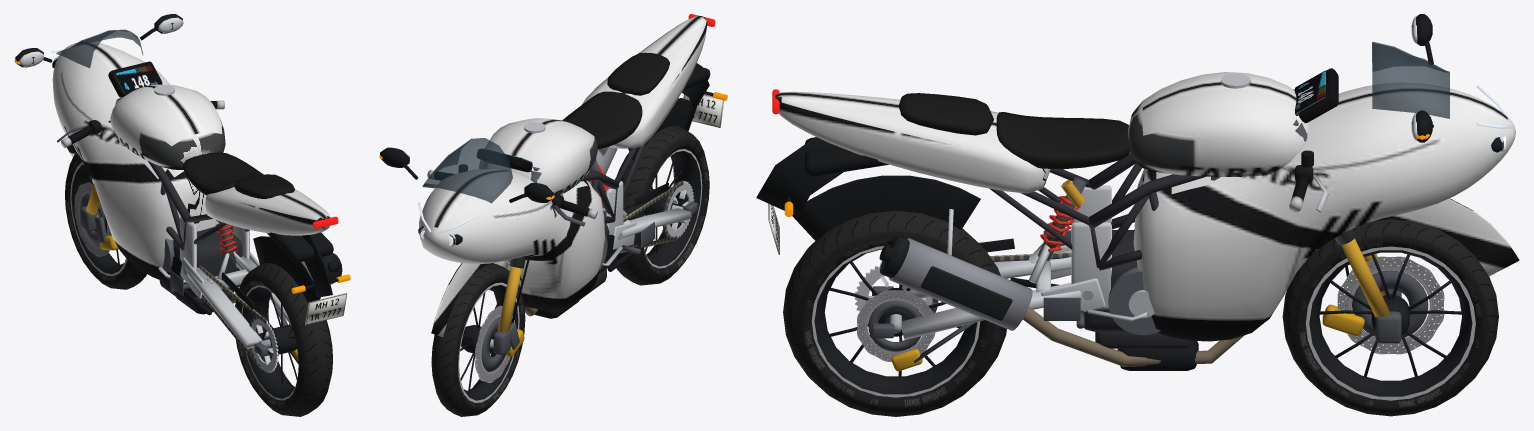
File: bike_lo.glb
3 views of the same model, side by side, from view 1: azimuth 30°, elevation 25°; view 2: azimuth 150°, elevation 25°; view 3: azimuth 270°, elevation 25° (orthographic). The views are drawn at different scales.
Parts seen in each view (by area): view 1: bike_BodyPaint, bike_Parts, WheelR, WheelF, bike_Glass, bike_Lamps; view 2: bike_BodyPaint, bike_Parts, WheelR, WheelF, bike_Glass, bike_Lamps; view 3: bike_BodyPaint, bike_Parts, WheelF, WheelR, bike_Glass.
Boxes of the visible parts, x1,y1,x2,y2 form: bike_BodyPaint: (52, 42, 330, 281); bike_Parts: (15, 14, 347, 368); WheelR: (235, 263, 332, 416); WheelF: (65, 152, 146, 289); bike_Glass: (56, 29, 143, 68); bike_Lamps: (14, 21, 350, 293); bike_BodyPaint: (419, 15, 706, 336); bike_Parts: (380, 52, 724, 356); WheelR: (614, 125, 709, 285); WheelF: (431, 264, 525, 416); bike_Glass: (422, 138, 512, 203); bike_Lamps: (379, 14, 727, 245); bike_BodyPaint: (775, 72, 1519, 341); bike_Parts: (756, 14, 1503, 371); WheelF: (1282, 219, 1498, 416); WheelR: (783, 210, 1006, 416); bike_Glass: (1372, 41, 1449, 118).
Size of the model in its own units: 0.75 by 1.1 by 2.07.
6 materials, 5 textured.
